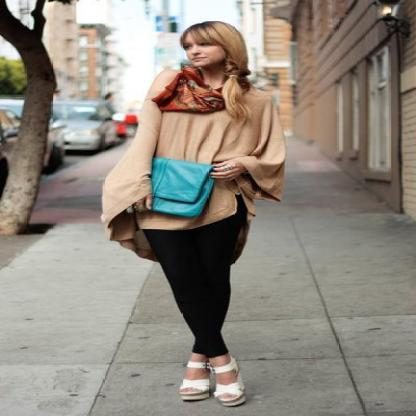bag: (152, 158, 236, 216)
jacket: (101, 75, 292, 257)
pants: (142, 215, 248, 357)
shoe: (179, 358, 241, 400)
